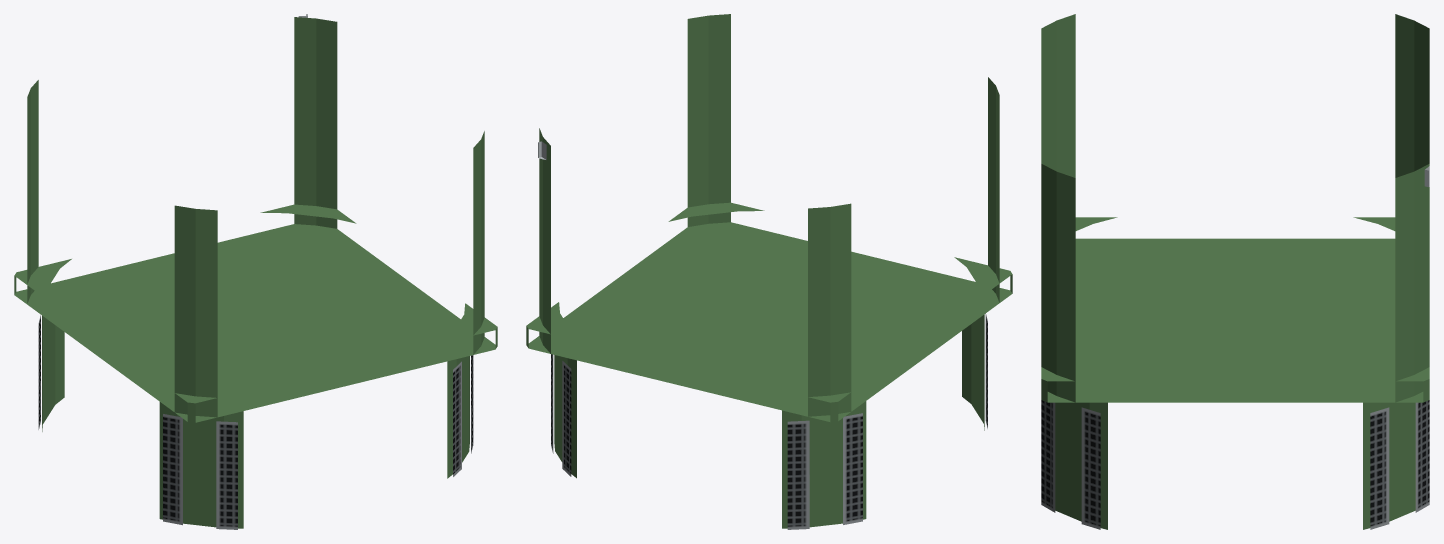
The model's file is cell_37.obj.
The picture shows the model from 3 angles, left to right: view 1: azimuth 30°, elevation 25°; view 2: azimuth 150°, elevation 25°; view 3: azimuth 270°, elevation 25°; orthographic projection. The views are drawn at different scales.
Bounding box in the file's own units: 1 × 1 × 1.
